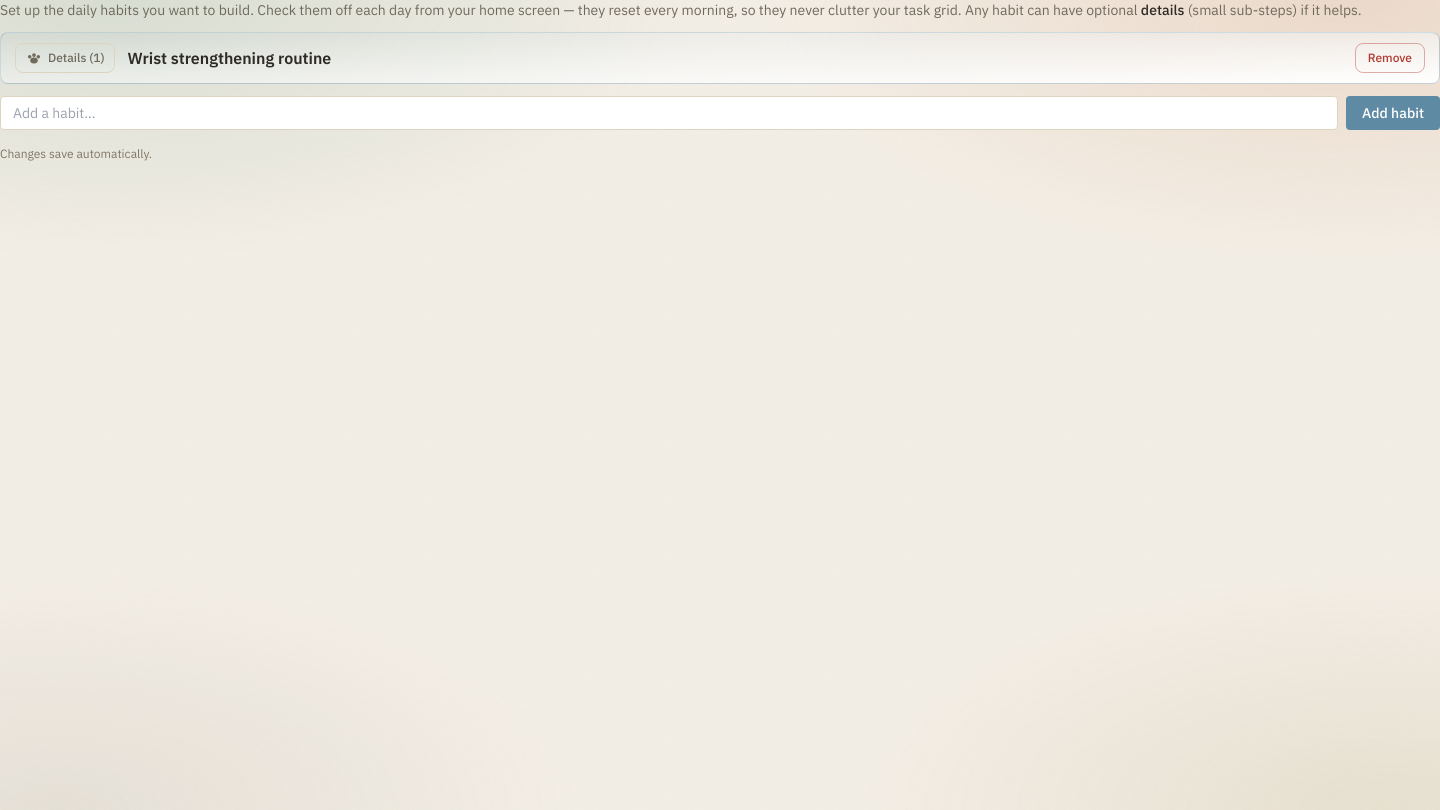
Scenario: HabitsView › does NOT remove when the confirm dialog is cancelled
Click the button named "Remove habit \"Wrist strengthening routine\"": [1390, 58] box [1355,43,1425,73]
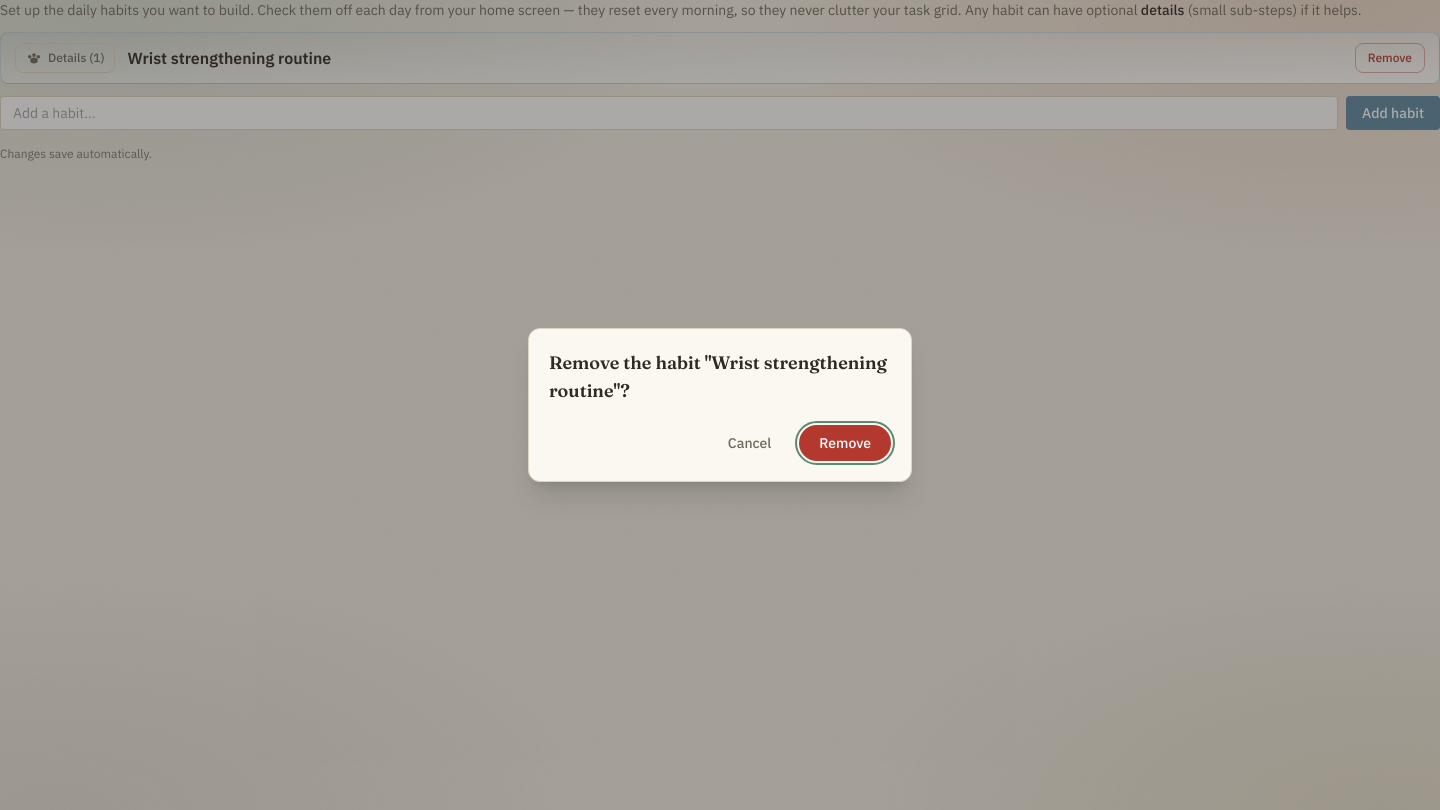
Click the button "Cancel": [750, 443] box [712,425,787,461]
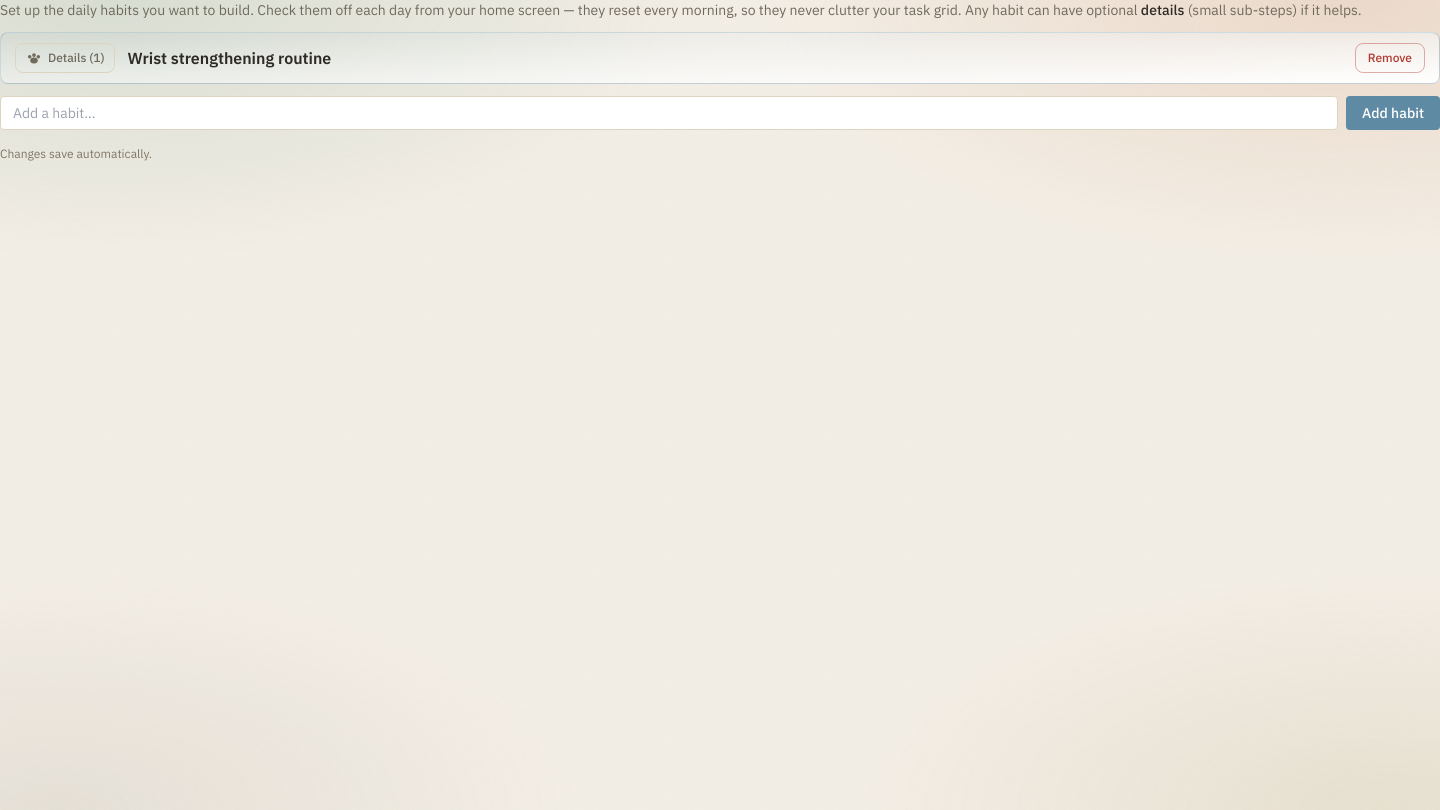
Check: the dialog is gone
